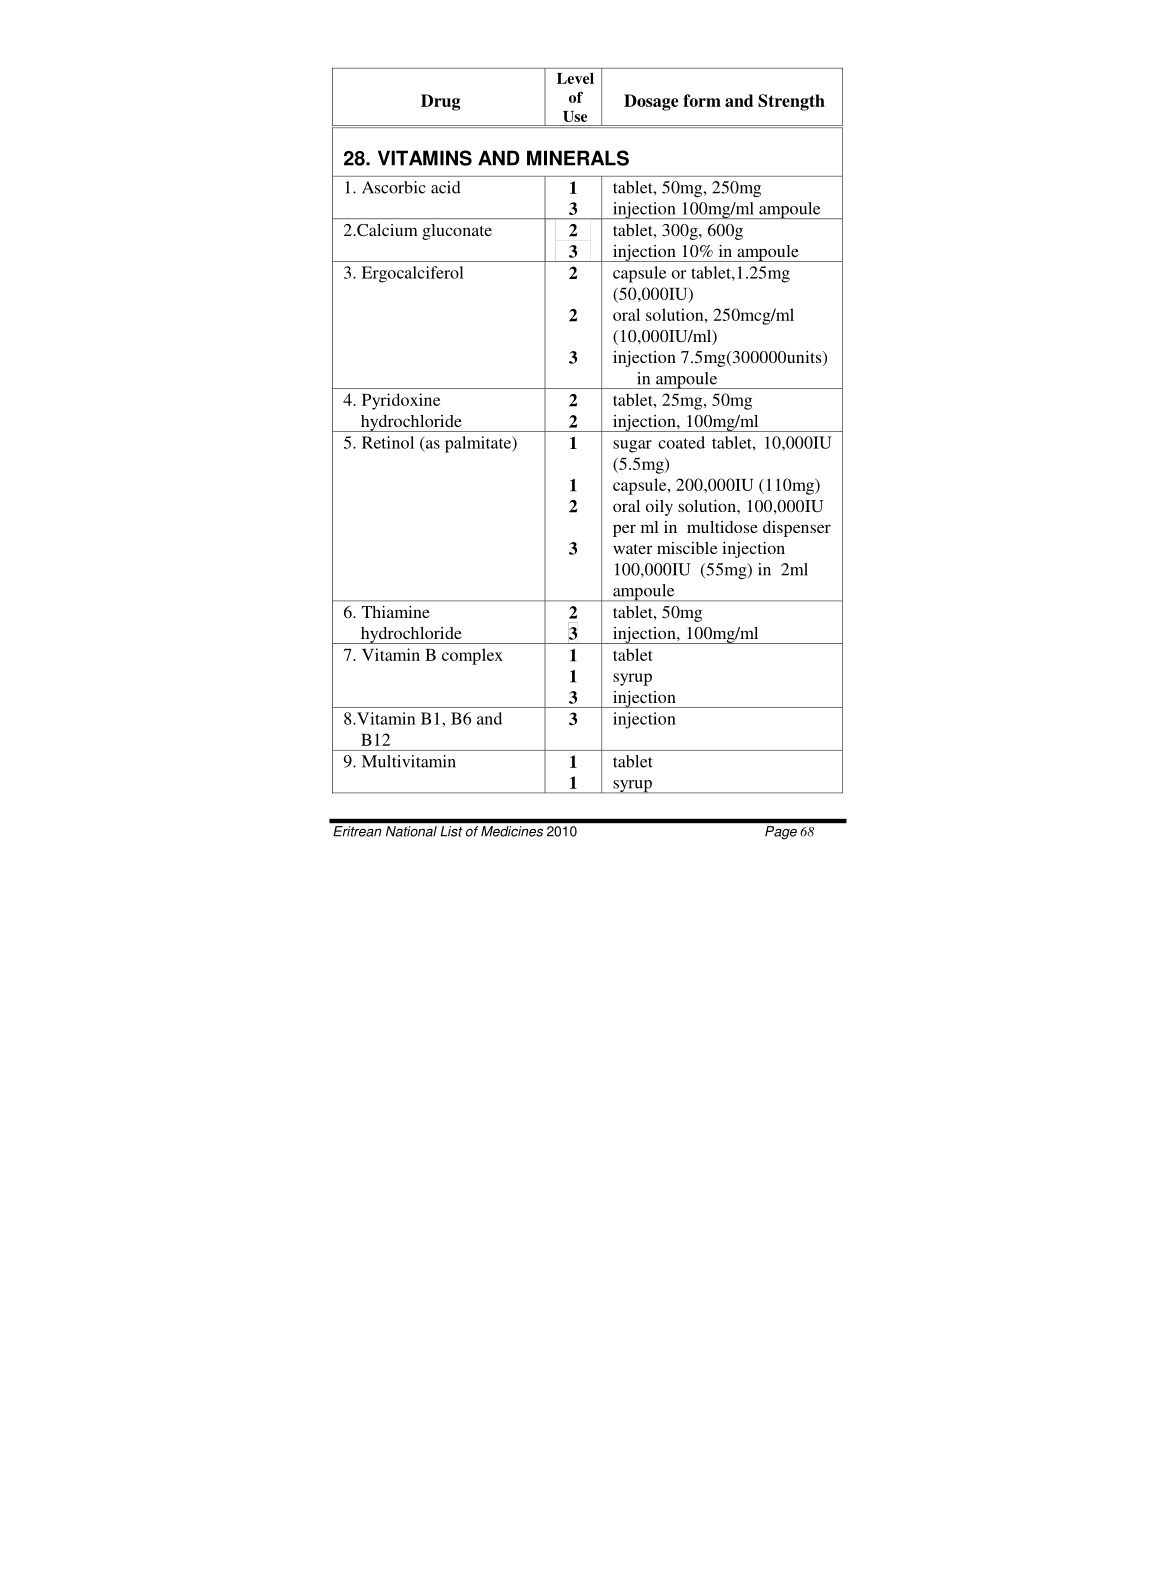merged_cells: (331, 67, 842, 794)
